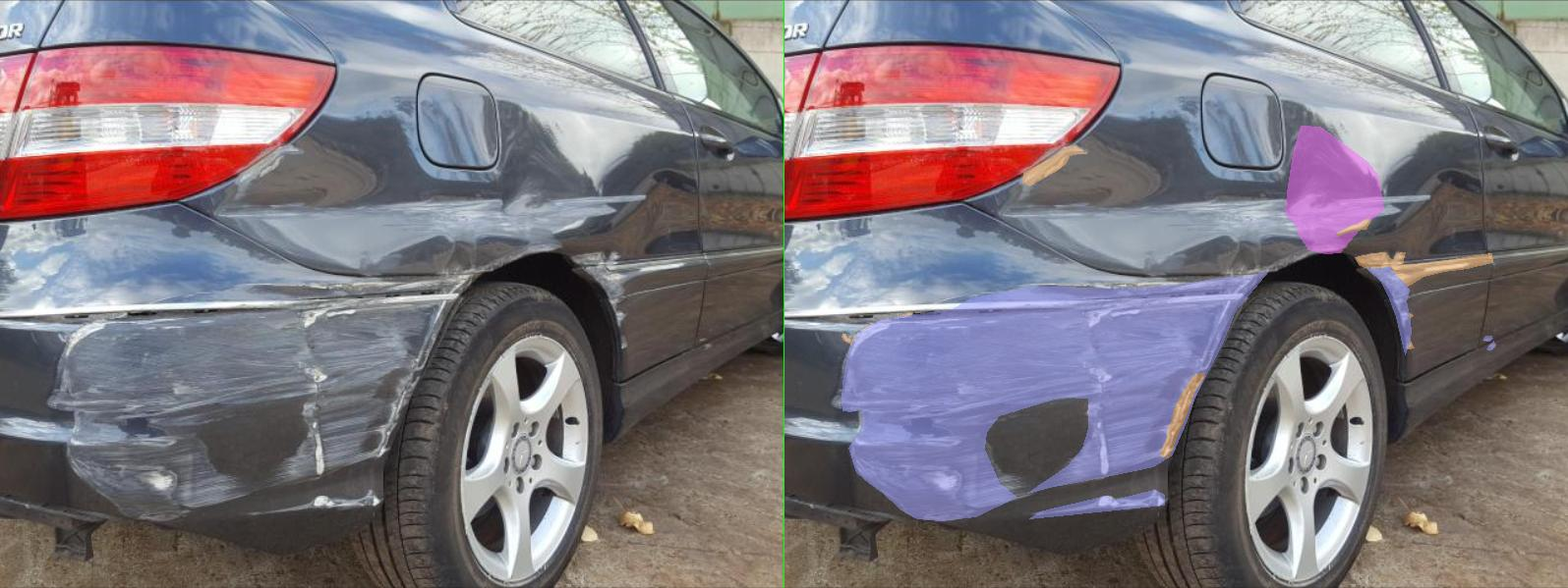Dent: (1001, 126, 1198, 253)
Paint chip: (752, 372, 840, 457), (1214, 253, 1417, 286), (476, 146, 604, 186), (864, 275, 944, 327), (132, 322, 214, 359), (752, 294, 921, 303), (1141, 252, 1241, 267), (209, 318, 395, 325), (1106, 218, 1173, 236), (1220, 298, 1257, 327), (606, 308, 657, 328), (608, 367, 657, 384), (630, 434, 649, 475), (299, 472, 344, 488), (651, 308, 714, 318), (1204, 274, 1255, 282), (606, 401, 633, 413), (388, 319, 437, 324), (226, 312, 256, 319), (1241, 338, 1259, 349), (114, 334, 132, 343), (624, 420, 637, 430), (327, 326, 370, 329), (295, 327, 311, 330)
Scratch: (114, 271, 968, 520), (1147, 253, 1253, 354), (490, 490, 759, 518), (1405, 341, 1422, 350), (1397, 336, 1417, 341)
